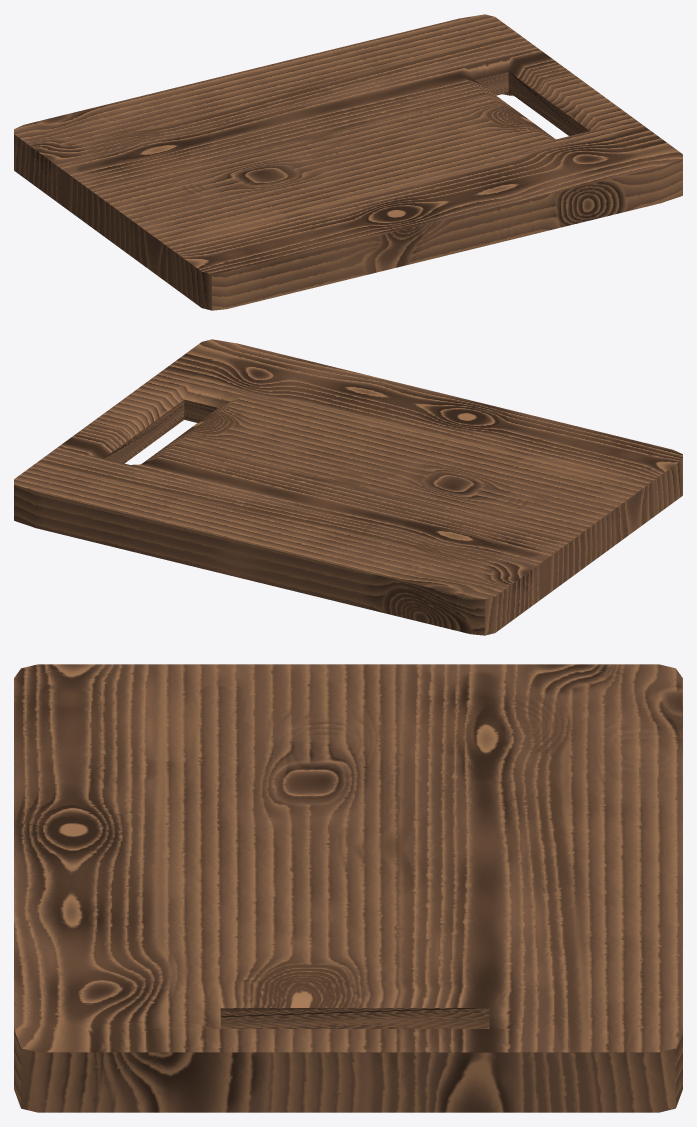
Rendered from ChoppingBoard_Complete1.fbx.
The picture shows the model from 3 angles, top to bottom: view 1: azimuth 30°, elevation 25°; view 2: azimuth 150°, elevation 25°; view 3: azimuth 270°, elevation 25°; orthographic projection. The views are drawn at different scales.
Parts seen in each view (by area): view 1: ChoppingBoard; view 2: ChoppingBoard; view 3: ChoppingBoard.
Part boxes in pixels (x1,y1,x2,y2): ChoppingBoard: (14,14,682,310); ChoppingBoard: (14,339,682,635); ChoppingBoard: (14,664,682,1112).
Bounding box in the file's own units: 1.68 × 0.1216 × 1.22.
